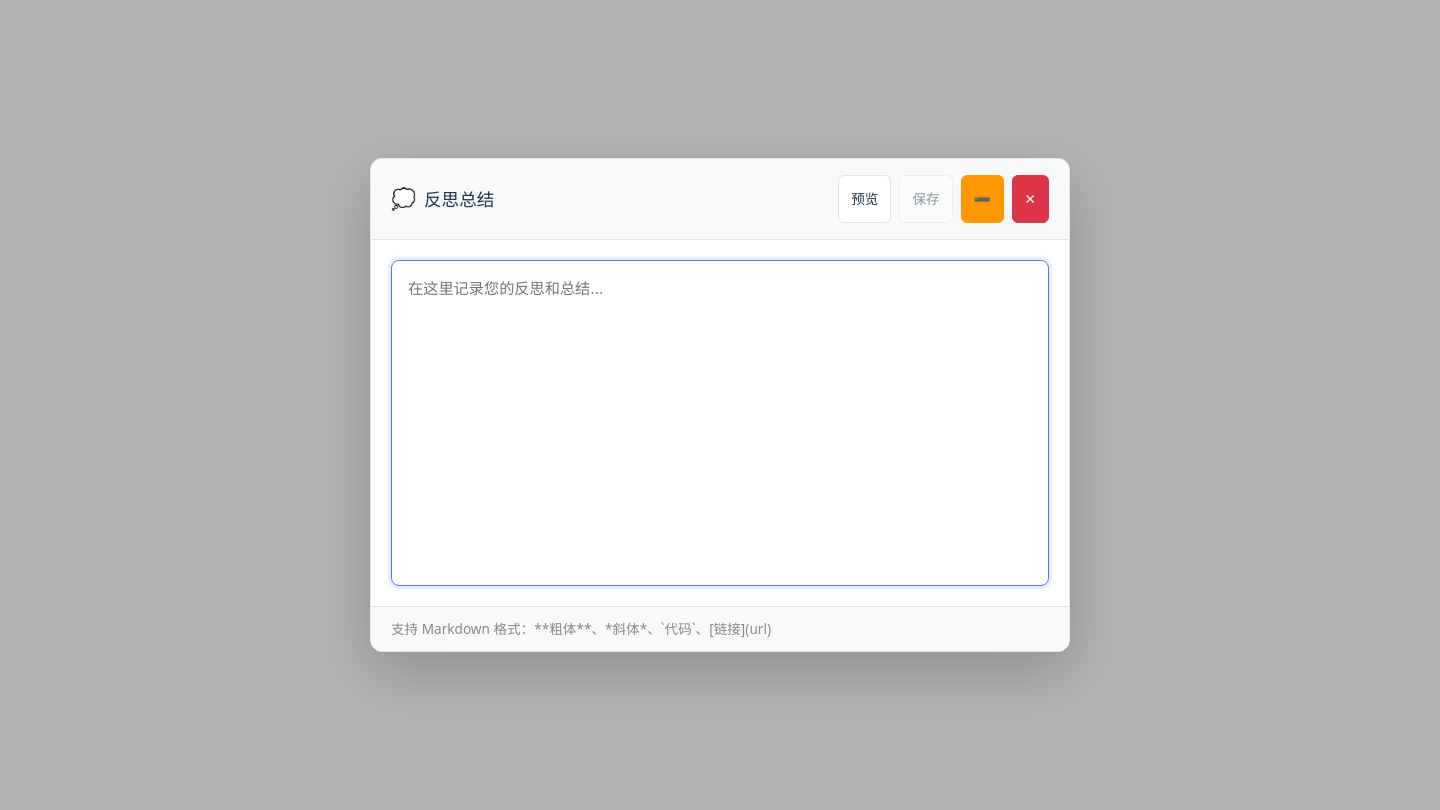
Test case: ReflectionModal › can be minimized and expanded
Click the button titled "最小化" at (982, 199), box [961,175,1004,223]
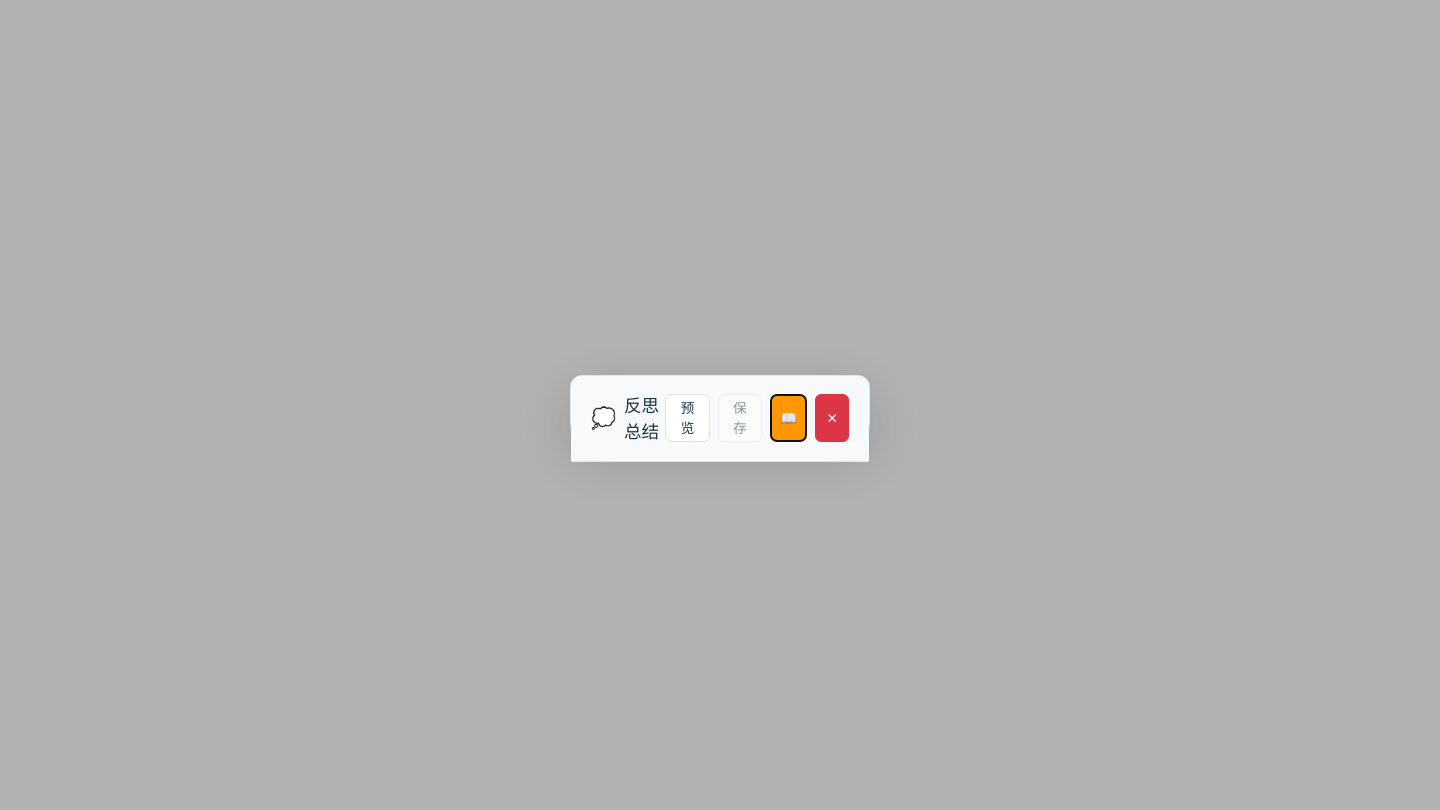
Expected: the button titled "展开" is shown, [770,394,807,442]
